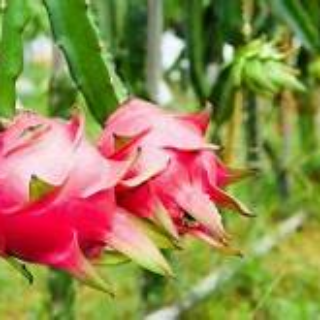thanh_long: (97, 94, 264, 250), (1, 110, 139, 288)
